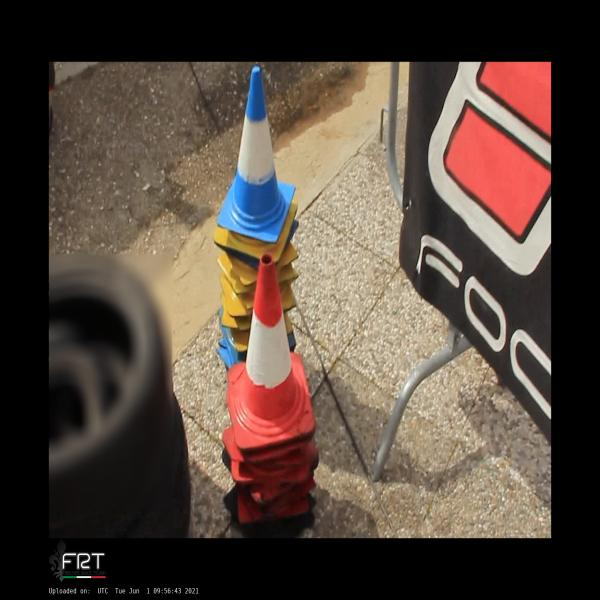blue_cone: (216, 67, 296, 243)
orange_cone: (227, 254, 316, 449)
